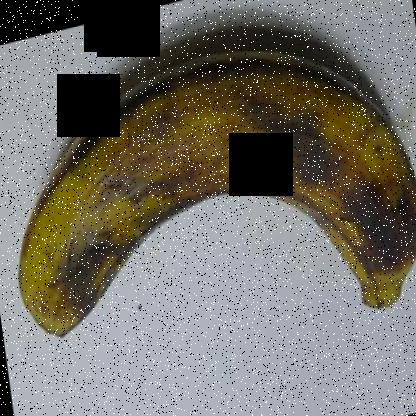overripe: (13, 18, 415, 345)
